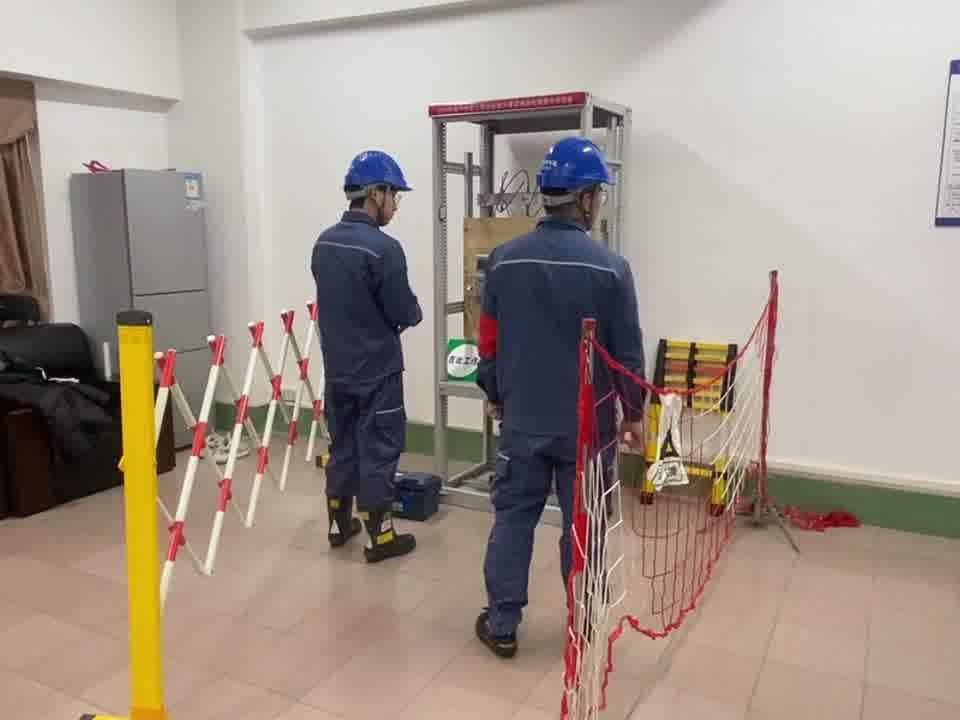badge: (476, 313, 501, 359)
downsuit: (485, 442, 609, 629), (323, 377, 407, 505)
halt: (535, 134, 617, 220), (341, 149, 413, 221)
hand: (617, 416, 642, 447), (481, 395, 504, 422)
inear: (570, 183, 595, 219), (370, 180, 391, 219)
person: (472, 133, 664, 661), (306, 147, 441, 564)
shoe: (329, 496, 420, 562)
upsuit: (471, 222, 650, 436), (308, 214, 424, 375)
worksign: (440, 334, 487, 383)
